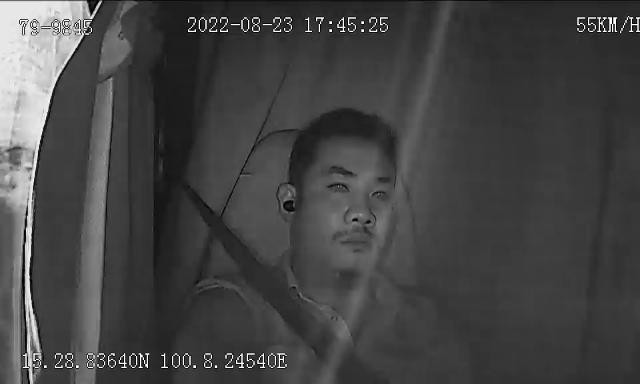SafeDriving: (271, 183, 306, 220), (322, 168, 356, 198), (364, 176, 396, 207)
Seatbelt: (198, 200, 388, 384)
